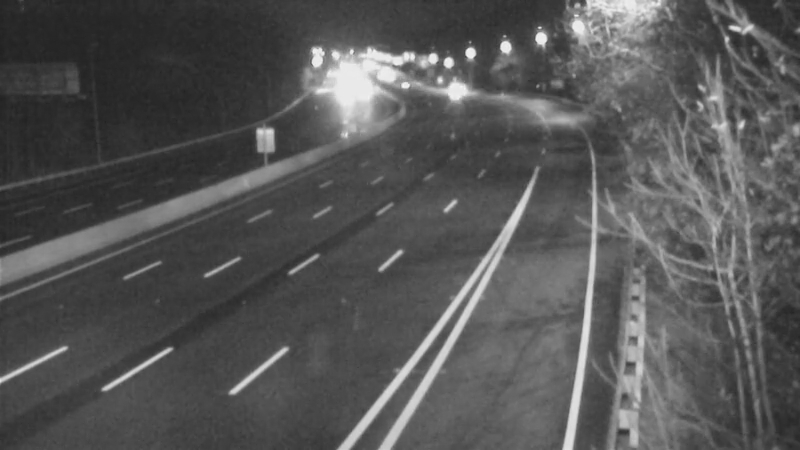vehicle: (380, 58, 430, 108), (431, 63, 481, 113)
